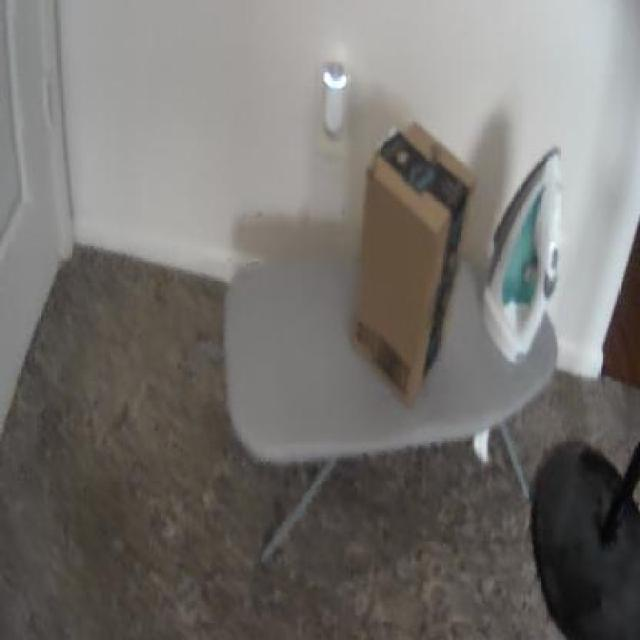cardboxes: (341, 105, 485, 423)
